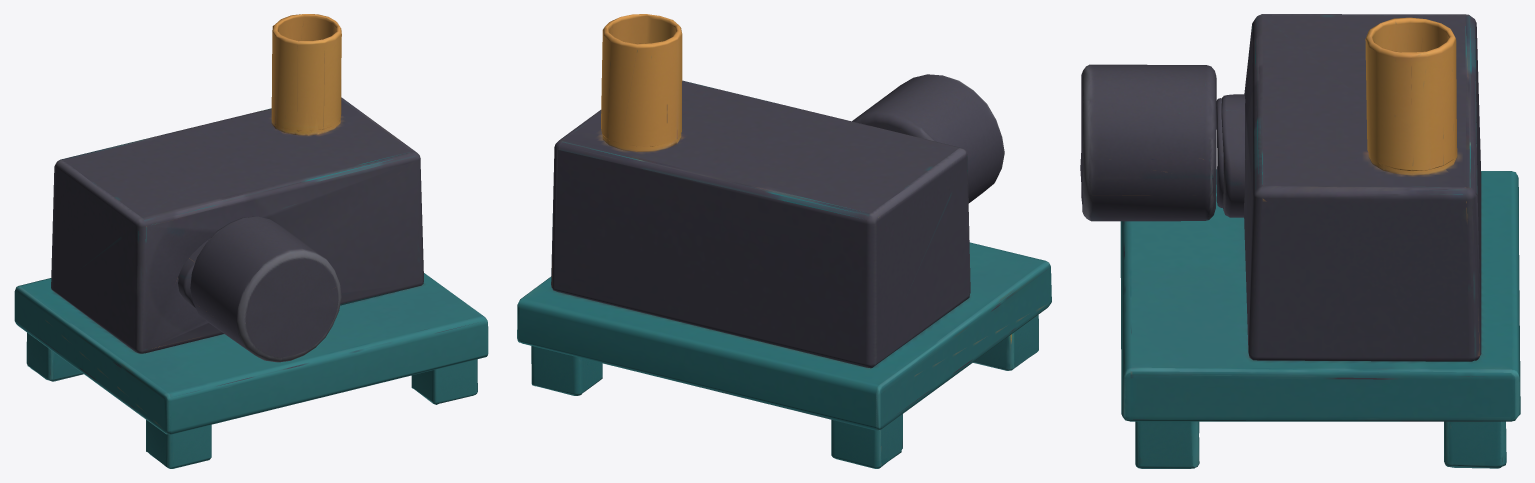
Rendered from engine.glb.
3 views of the same model, side by side, from view 1: azimuth 30°, elevation 25°; view 2: azimuth 150°, elevation 25°; view 3: azimuth 270°, elevation 25° (orthographic). The views are drawn at different scales.
Bounding box in the file's own units: 1 × 0.9141 × 0.9199.
Materials: 1 (1 with a texture image).
